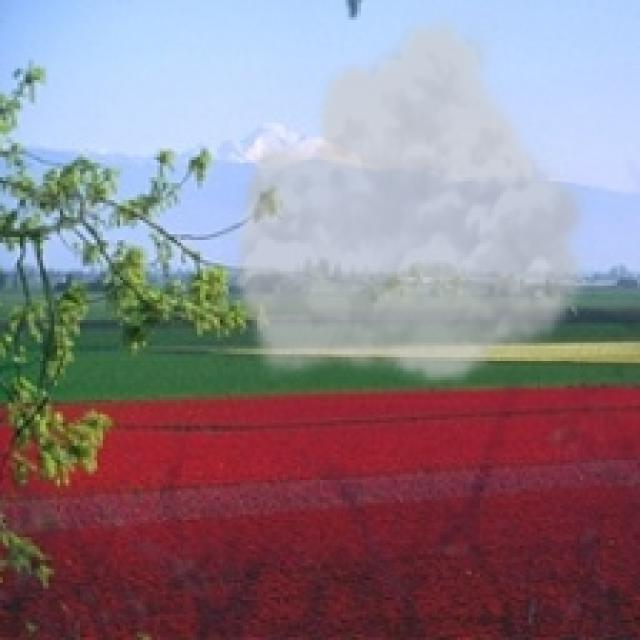smoke: (226, 11, 597, 388)
